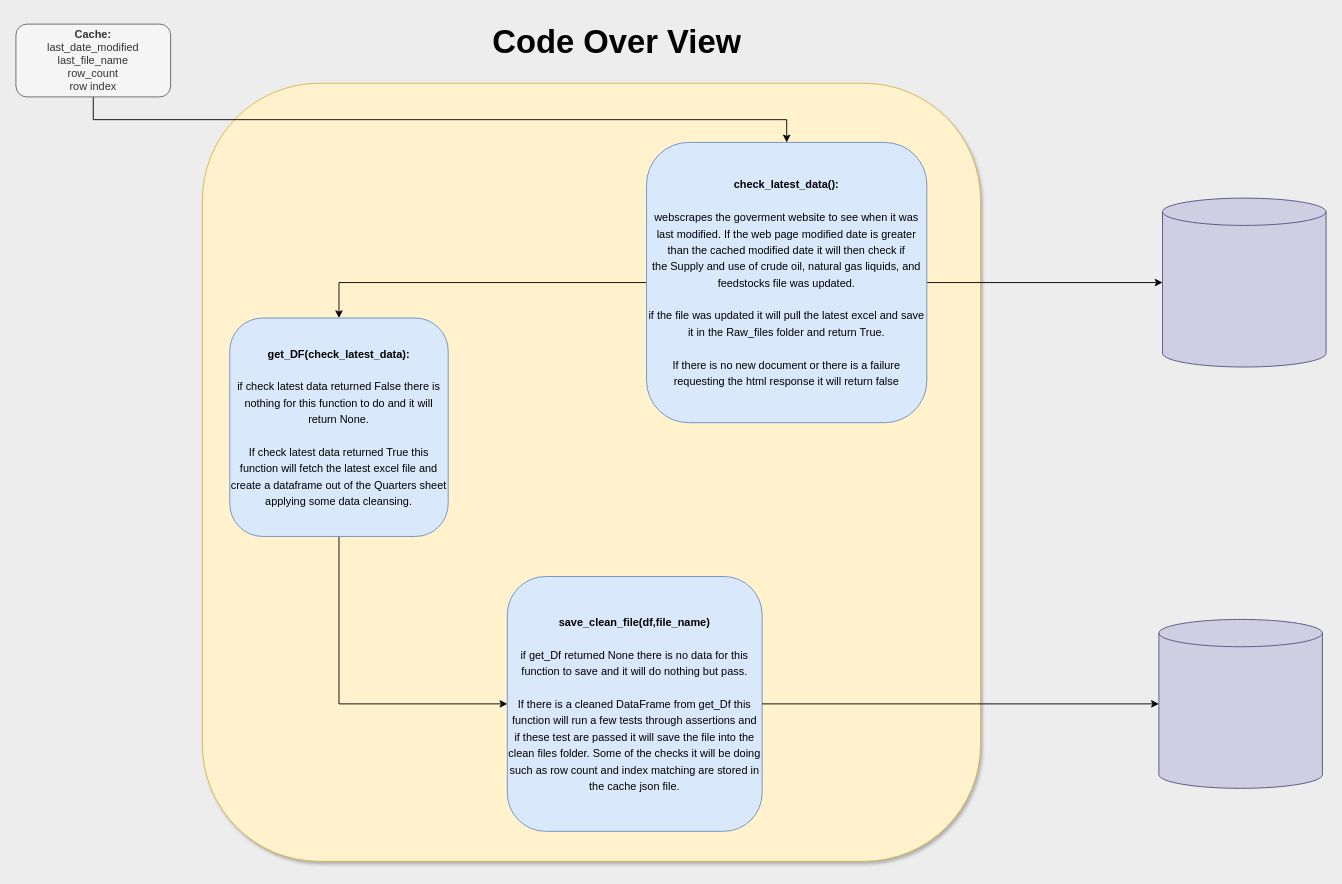
This 1342x884 diagram has some shape labels left out. Here are the shapes that lost their labels. From the top down, the centre of each, then its label:
At (x=1244, y=282): "Raw_files".
At (x=1240, y=703): "Clean_files".
